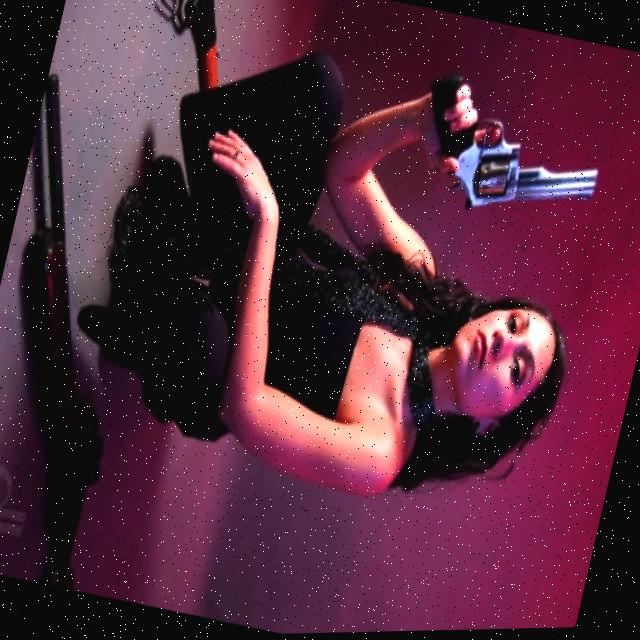firearm: (0, 66, 186, 590), (140, 0, 245, 97)
pistol: (408, 66, 614, 240)
